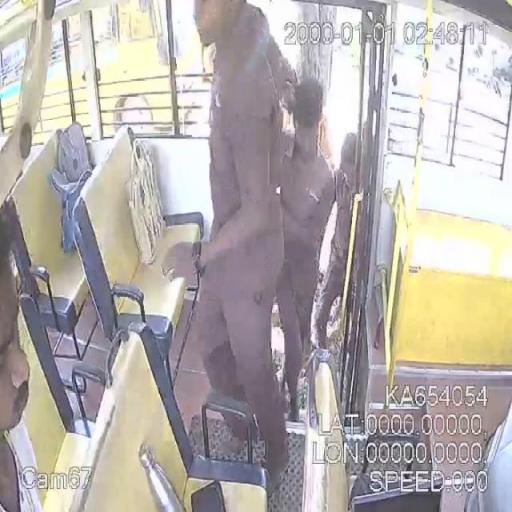persona: (186, 0, 300, 496), (274, 77, 338, 422), (0, 201, 46, 512), (312, 132, 364, 354)
